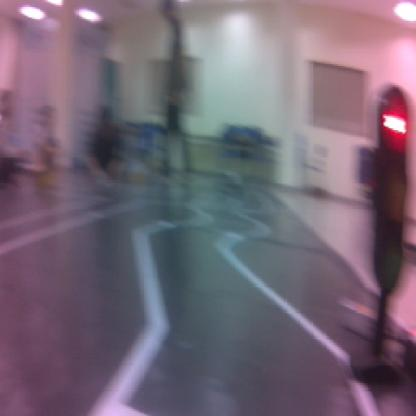building map: (382, 94, 408, 146)
